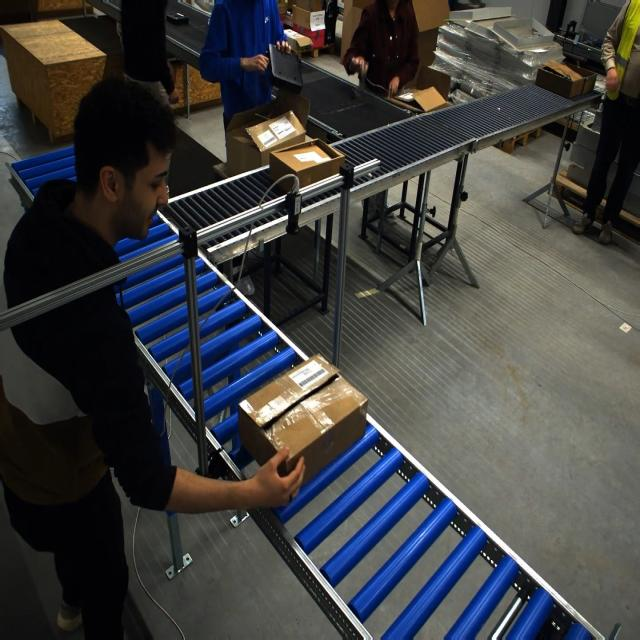box: (243, 360, 366, 489), (210, 97, 304, 185), (269, 145, 346, 190)
product: (255, 35, 311, 96)
